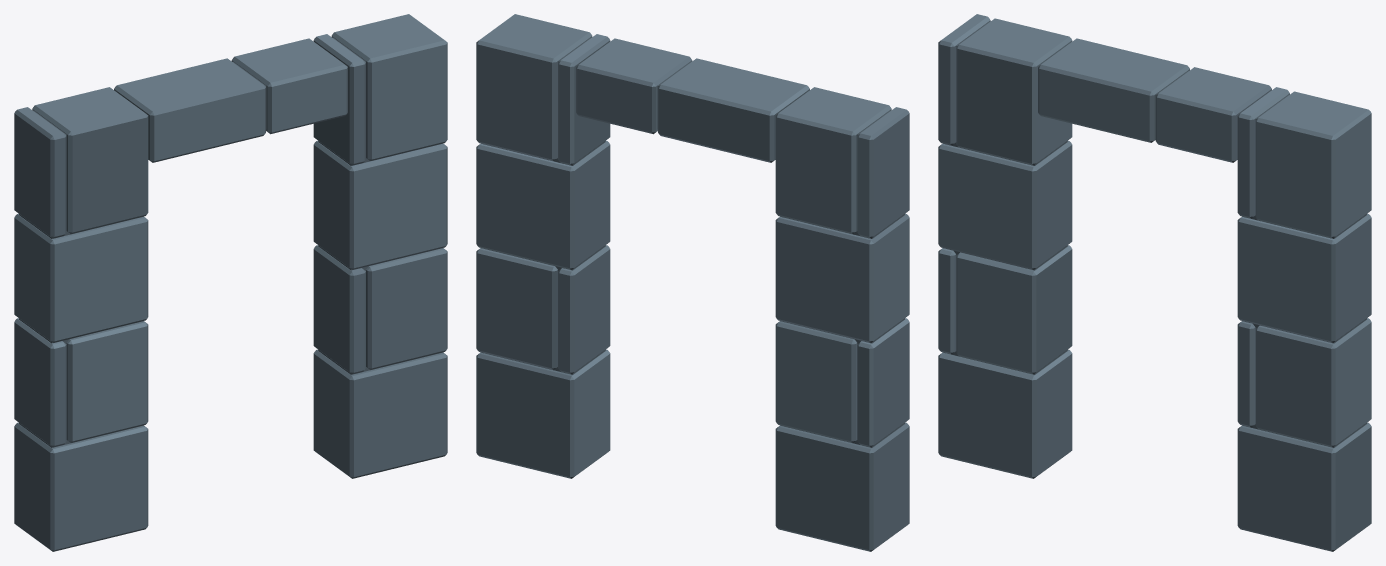
File: A05_Wall_Door_2m.fbx
The picture shows the model from 3 angles, left to right: view 1: azimuth 30°, elevation 25°; view 2: azimuth 150°, elevation 25°; view 3: azimuth 330°, elevation 25°; orthographic projection.
Parts seen in each view (by area): view 1: A05_Wall_Door_2m; view 2: A05_Wall_Door_2m; view 3: A05_Wall_Door_2m.
Boxes of the visible parts, <box> form: A05_Wall_Door_2m: <box>14,14,447,551</box>; A05_Wall_Door_2m: <box>476,14,909,551</box>; A05_Wall_Door_2m: <box>938,14,1371,551</box>.
Size of the model in its own units: 1.99 by 1.99 by 0.34.
Materials: 1 (1 with a texture image).
